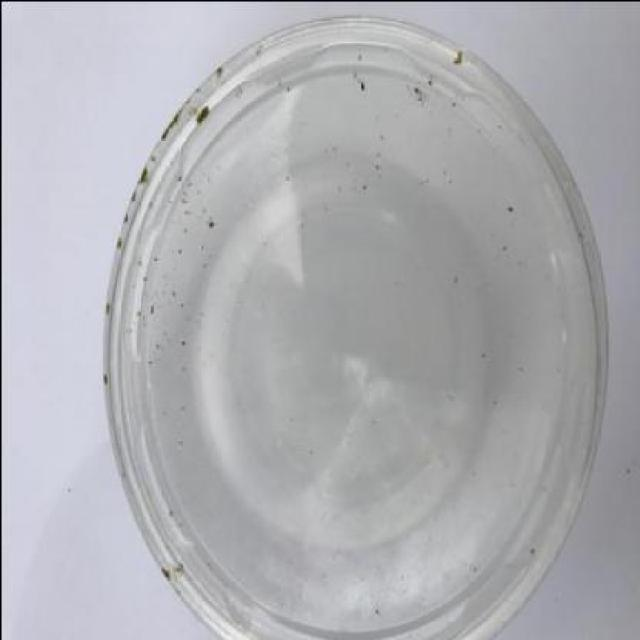PLASTIC: (102, 16, 608, 638)
